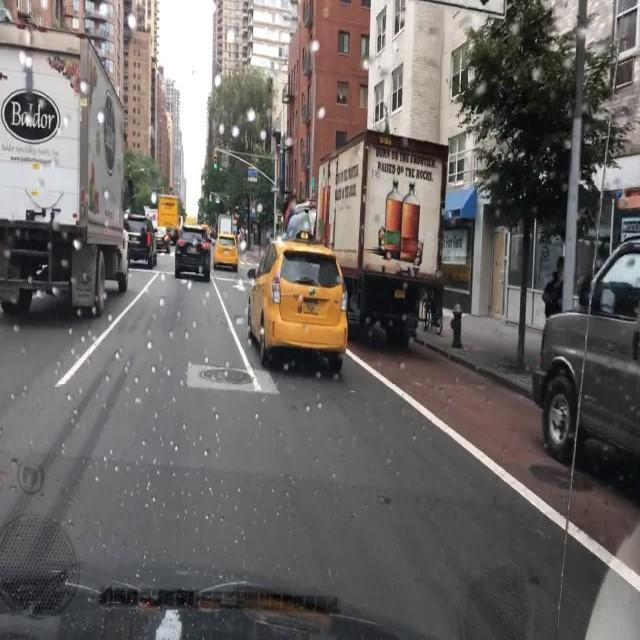normal: (270, 120, 426, 359), (237, 219, 353, 392), (165, 212, 217, 292)
